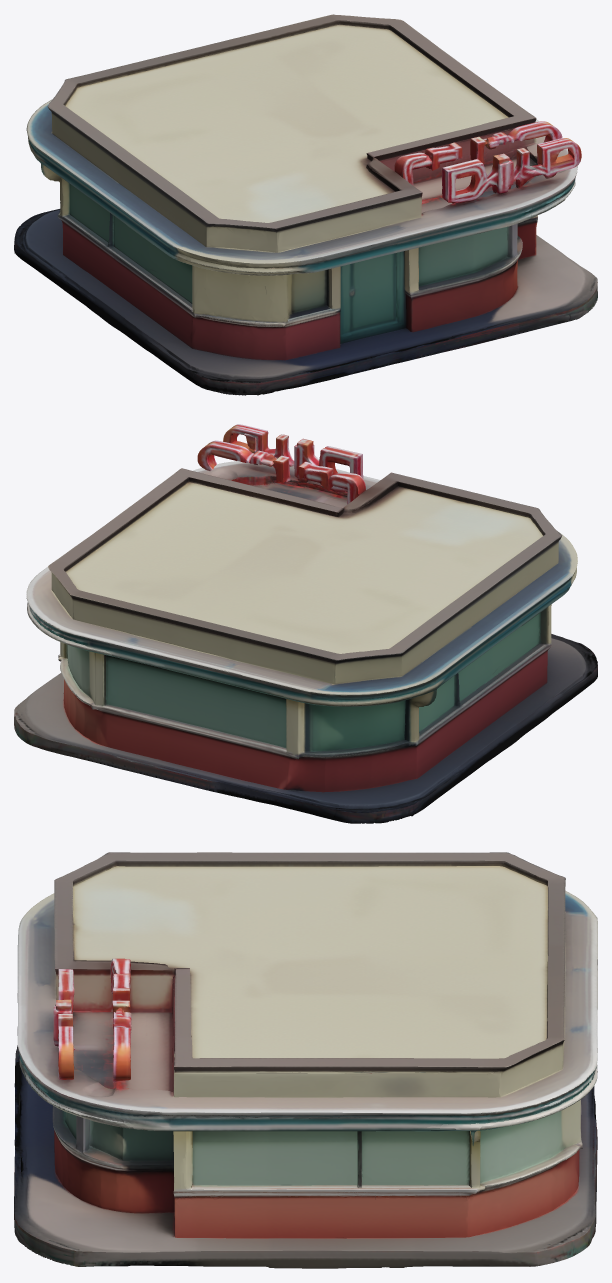
The model's file is diner.glb.
3 renders of one model, top to bottom at view 1: azimuth 30°, elevation 25°; view 2: azimuth 150°, elevation 25°; view 3: azimuth 270°, elevation 25°, orthographic. The views are drawn at different scales.
Parts seen in each view (by area): view 1: geometry_0; view 2: geometry_0; view 3: geometry_0.
Boxes of the visible parts, bbox=[...] form: geometry_0: bbox=[14, 14, 597, 395]; geometry_0: bbox=[14, 424, 597, 823]; geometry_0: bbox=[14, 852, 597, 1268].
Size of the model in its own units: 0.9933 by 0.3888 by 1.
1 material, 1 textured.
